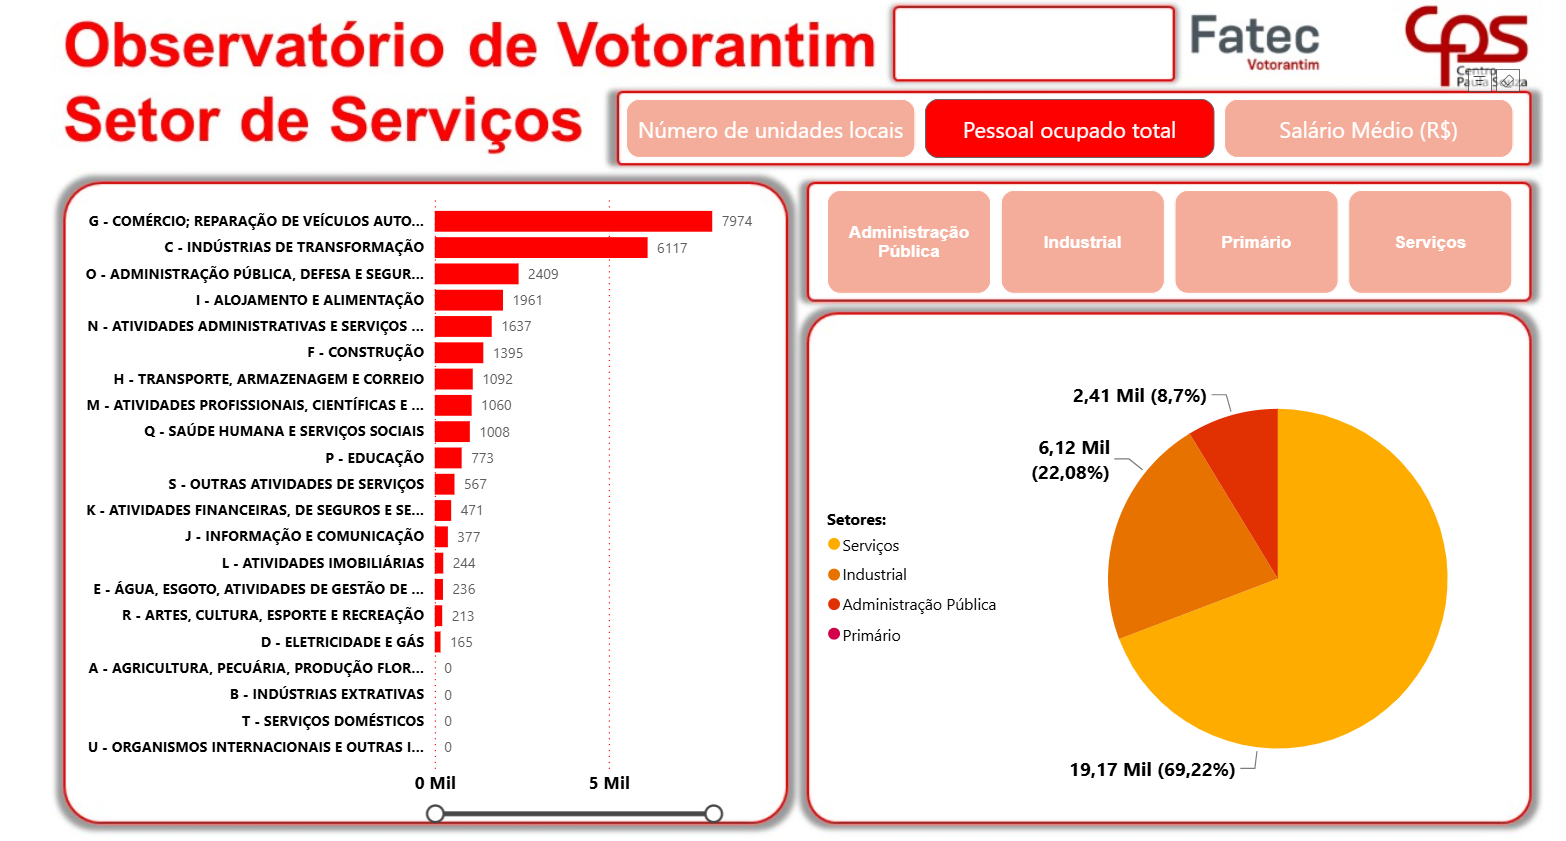

The dashboard page shown, as its layout file describes it:
{"tool":"powerbi","page":{"name":"Setores Geral","canvas":[1280,720],"ordinal":2},"visuals":[{"type":"image","box":[0,0,1280,720],"z":0},{"type":"pieChart","fields":{"Category":["SidraServiços.Setor","SidraServiços.Desc Sec"],"Y":["FiltroDados.Valor Selecionado"]},"box":[660,268.8,620,451.2],"z":1000},{"type":"advancedSlicerVisual","fields":{"Values":["FiltroDados.FiltroDados"]},"box":[490,83.8,762.5,60],"z":2000},{"type":"barChart","fields":{"Category":["SidraServiços.Desc Sec"],"Y":["FiltroDados.Valor Selecionado"]},"box":[21.2,161.2,603.8,542.5],"z":4000},{"type":"advancedSlicerVisual","fields":{"Values":["SidraServiços.Setor"]},"box":[660,161,592.7,98],"z":5000}]}

Visuals, with their boxes on the page's 1280x720 design canvas (x1, y1, x2, y2). These are canvas units, not pixel positions in the 1566x841 screenshot, which may show the page scaled, cropped or inside an application window:
image: (0,0,1280,720)
pieChart - SidraServiços.Setor x SidraServiços.Desc Sec: (660,269,1280,720)
advancedSlicerVisual - FiltroDados.FiltroDados: (490,84,1252,144)
barChart - SidraServiços.Desc Sec x FiltroDados.Valor Selecionado: (21,161,625,704)
advancedSlicerVisual - SidraServiços.Setor: (660,161,1253,259)
